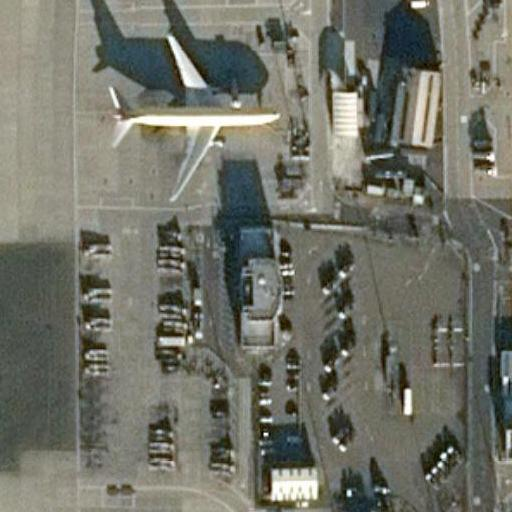Aircraft: (102, 27, 280, 201), (103, 31, 281, 195)
